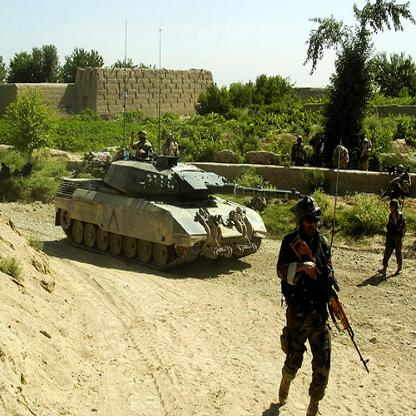Tank: (50, 141, 311, 286)
